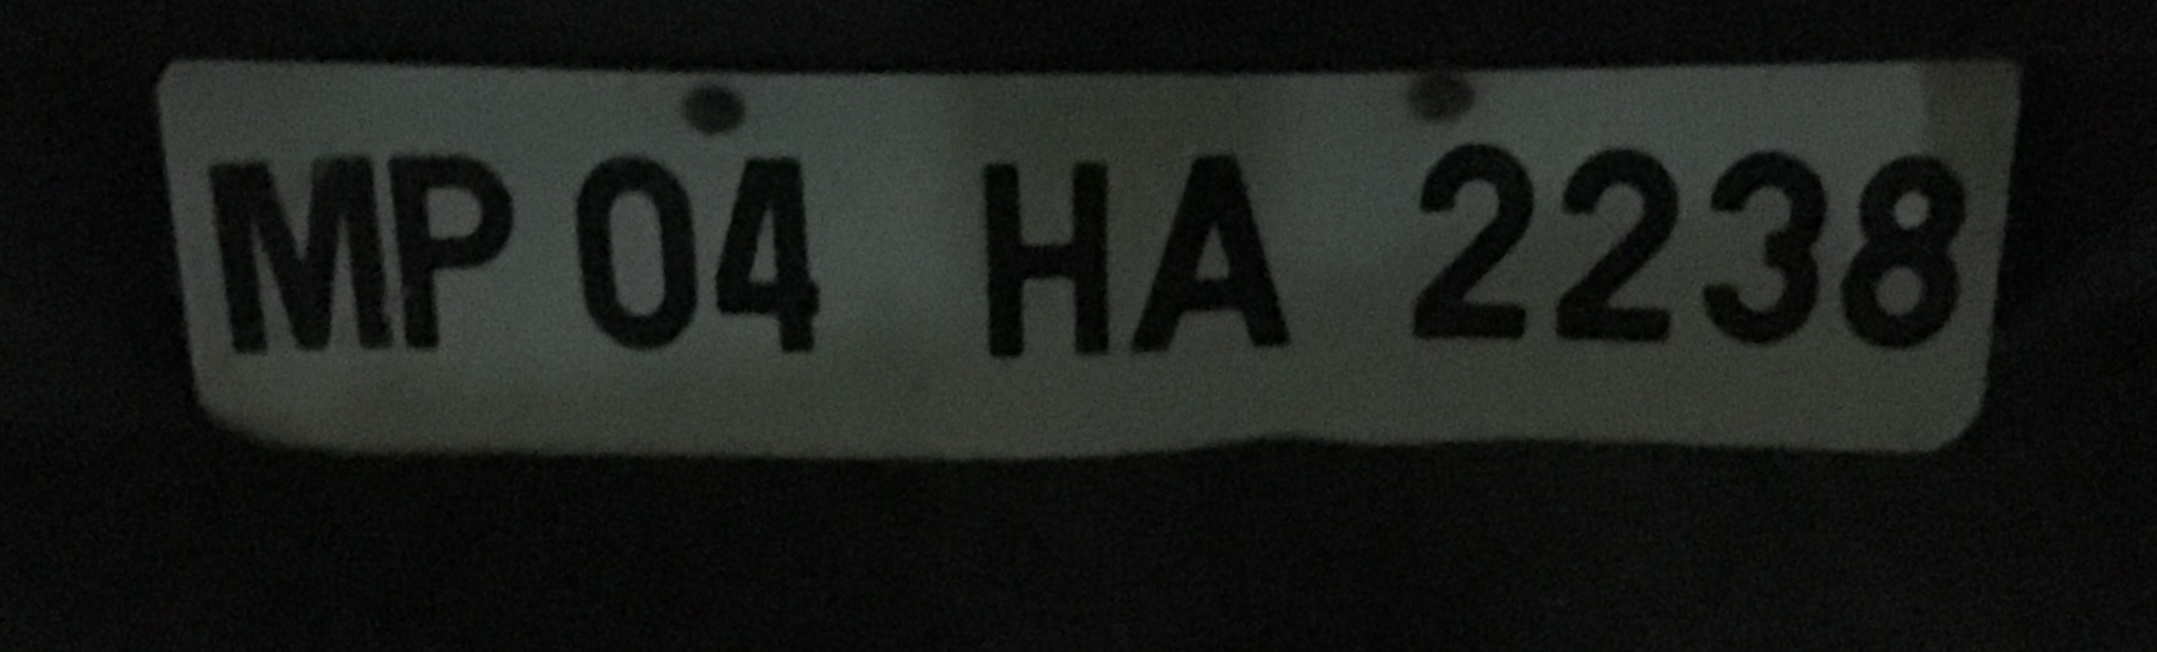numberplate: (151, 49, 2035, 464)
